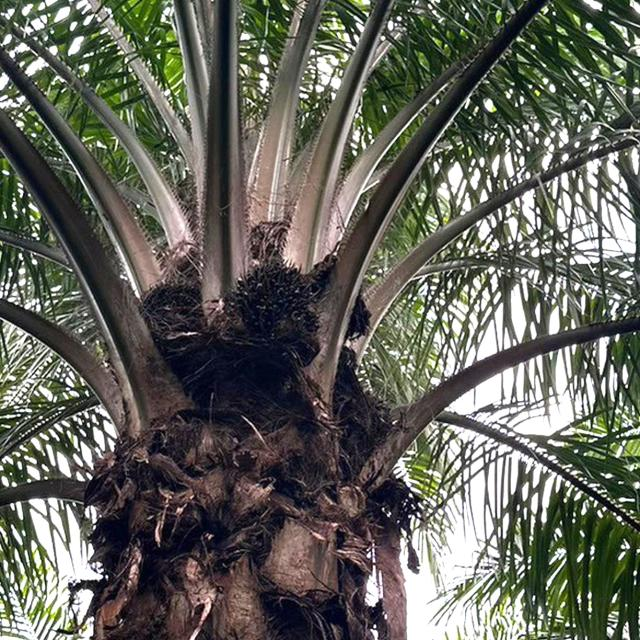unripe: (215, 250, 332, 373), (132, 269, 214, 352)
